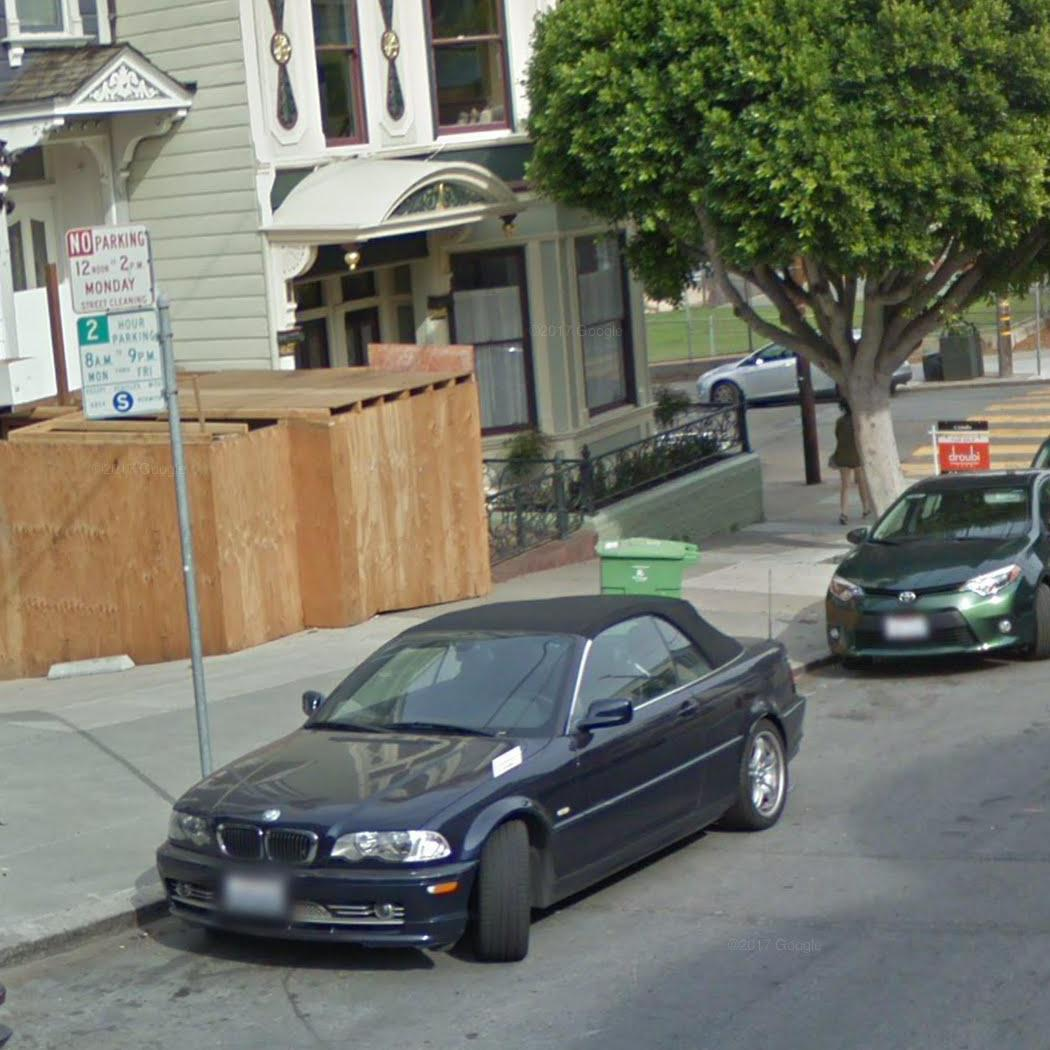2 Hour Parking: (72, 308, 175, 427)
No Parking: (61, 222, 159, 311)
